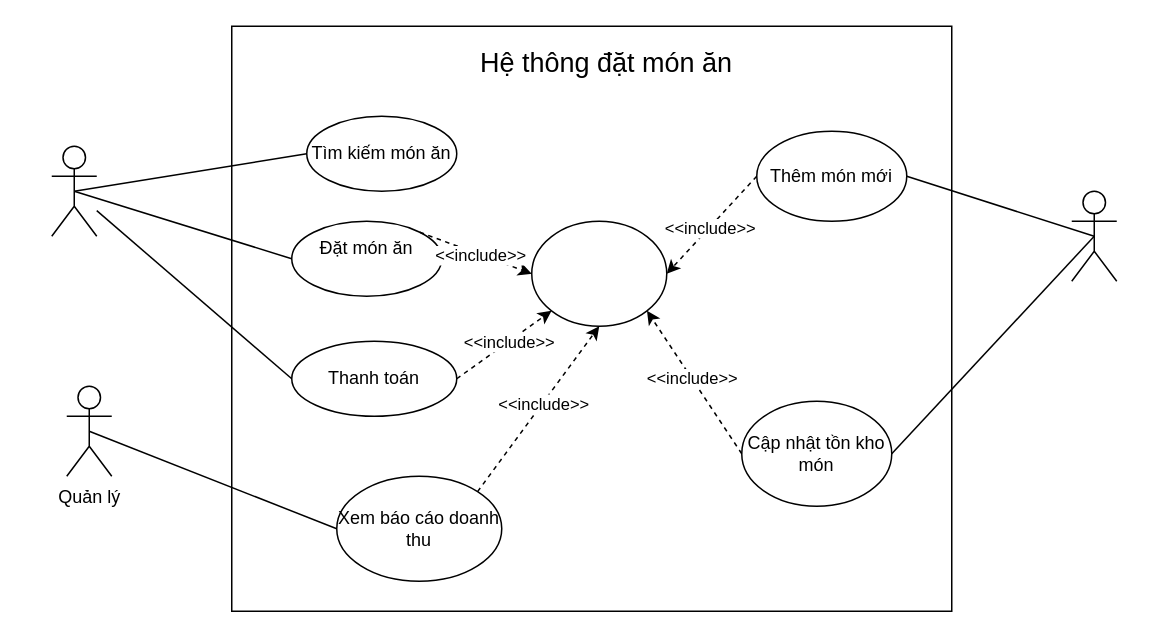
Image size: 1158x638. Some labels were removed from this diagram. Each missing label, with the centre of its shape:
"Khách hàng" goes at [73,190].
"Nhà hàng" goes at [1093,235].
"Đăng nhập" goes at [598,273].
